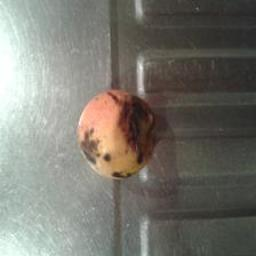Mango Rotten: (61, 88, 178, 198)
